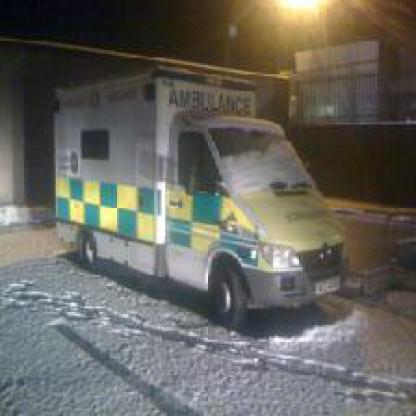emergency: (34, 67, 372, 343)
